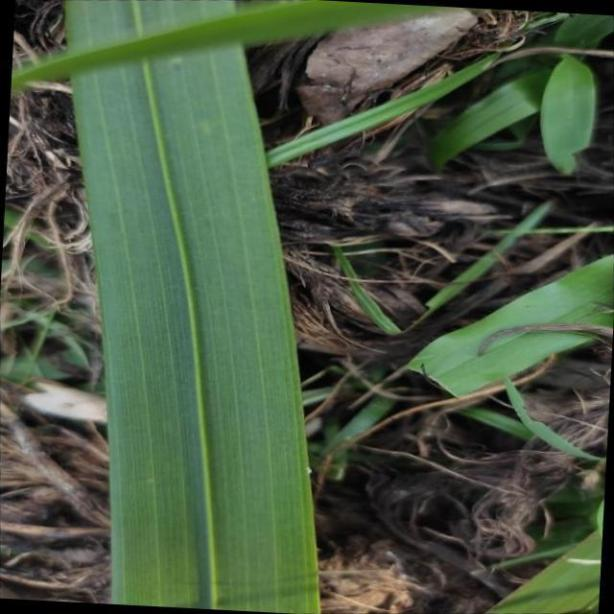Healthy: (68, 3, 320, 614)
